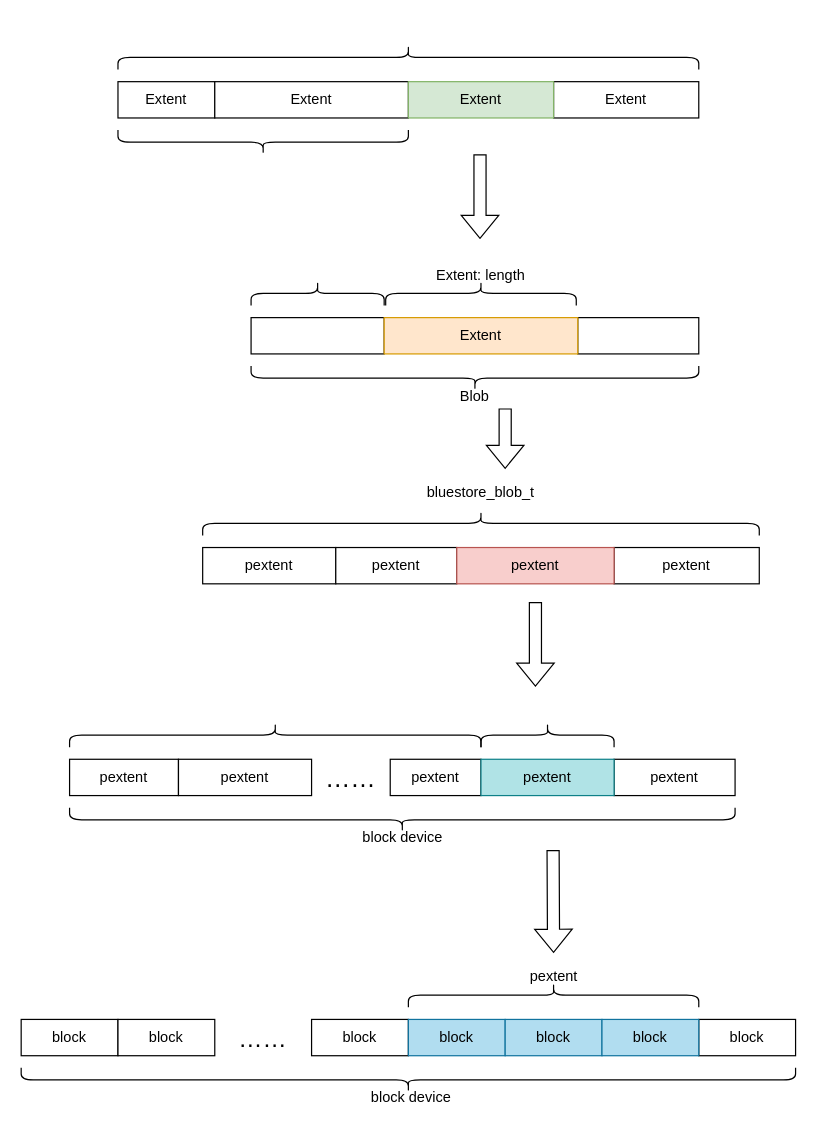
The diagram is 817 pixels wide and 1136 high, and some of its shapes have lost their labels. Each missing label, with the centre of its shape:
"bluestore_blob_t: length" belongs at (x=547, y=734).
"bluestore_blob_t: offset" belongs at (x=274, y=734).
"Extent: blob_offset" belongs at (x=317, y=293).
"Extent: logical_offset" belongs at (x=262, y=141).
"Onode" belongs at (x=408, y=57).
